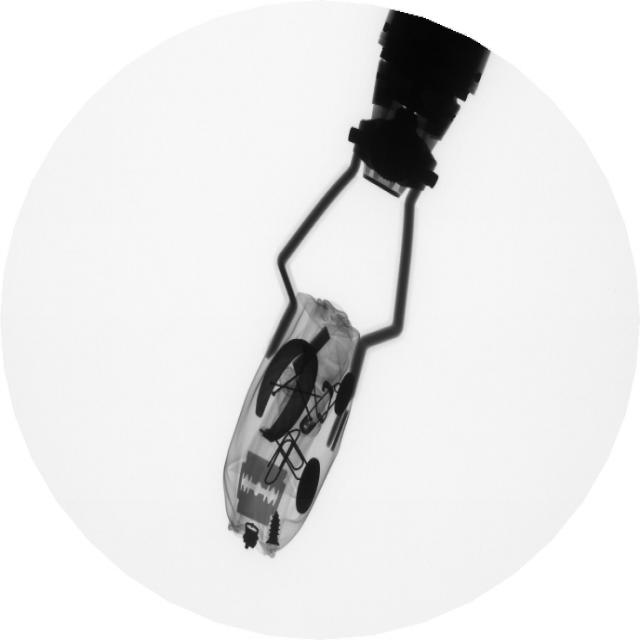BLADE: (232, 445, 288, 542)
